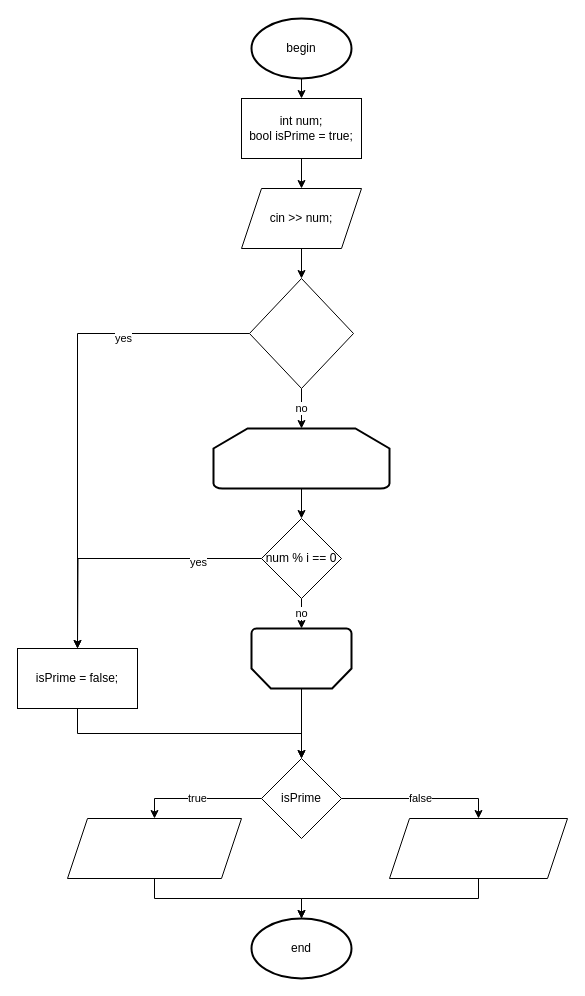
Image size: 585x996. Some labels were removed from this diagram. The box of each missing label's shape, as (x1, y1, x2, y2) in pixels:
cout << num is not prime: (388, 818, 568, 878)
cout << num is prime: (66, 818, 242, 878)
for ( int i = 3; i*i <= num; ++i): (212, 427, 390, 489)
num % 2 ==0;: (248, 278, 354, 388)
